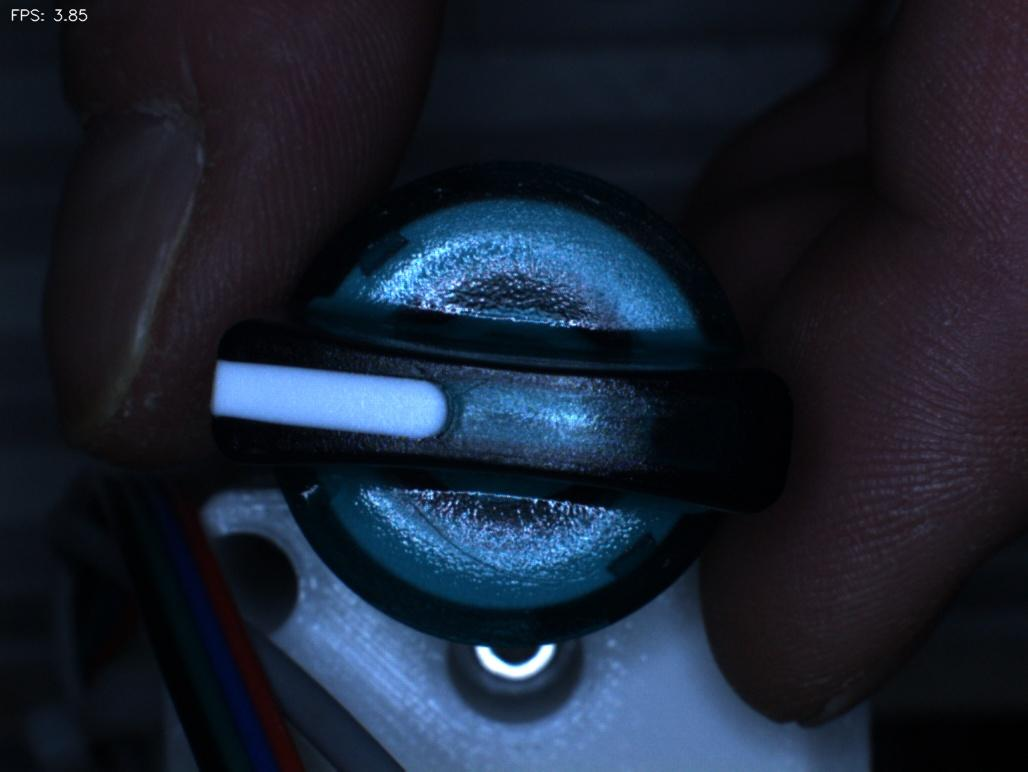Choc: (274, 459, 350, 533)
